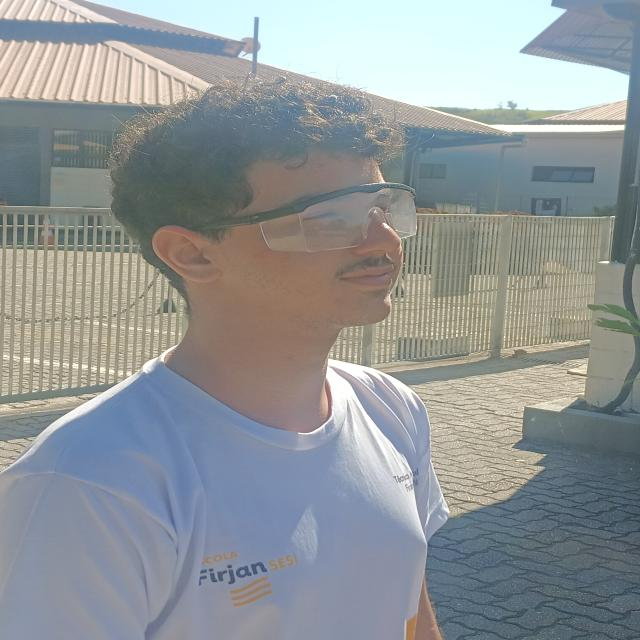oculos-epi: (185, 183, 417, 253)
